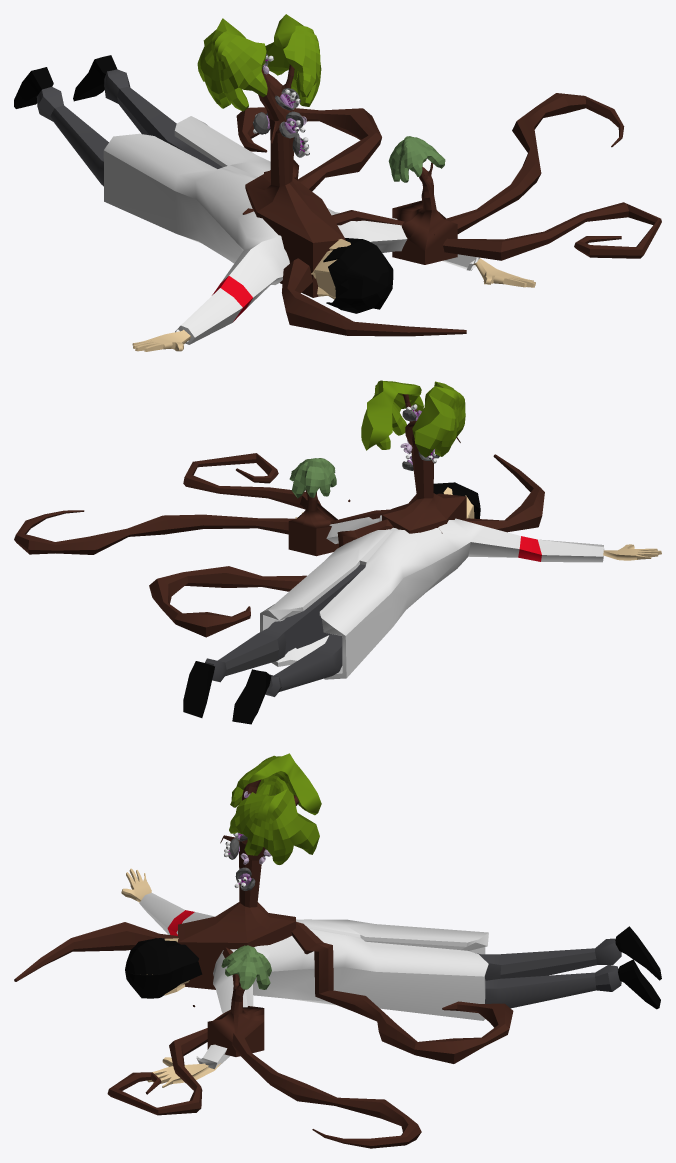
File: human_pose2.fbx
3 renders of one model, top to bottom at view 1: azimuth 30°, elevation 25°; view 2: azimuth 150°, elevation 25°; view 3: azimuth 270°, elevation 25°, orthographic. The views are drawn at different scales.
Parts seen in each view (by area): view 1: pose1; view 2: pose1; view 3: pose1.
Boxes of the visible parts, x1=… form: pose1: x1=14, y1=14, x2=661, y2=351; pose1: x1=14, y1=380, x2=661, y2=724; pose1: x1=14, y1=753, x2=661, y2=1148.
Bounding box in the file's own units: 6.3 × 2.67 × 6.58.
